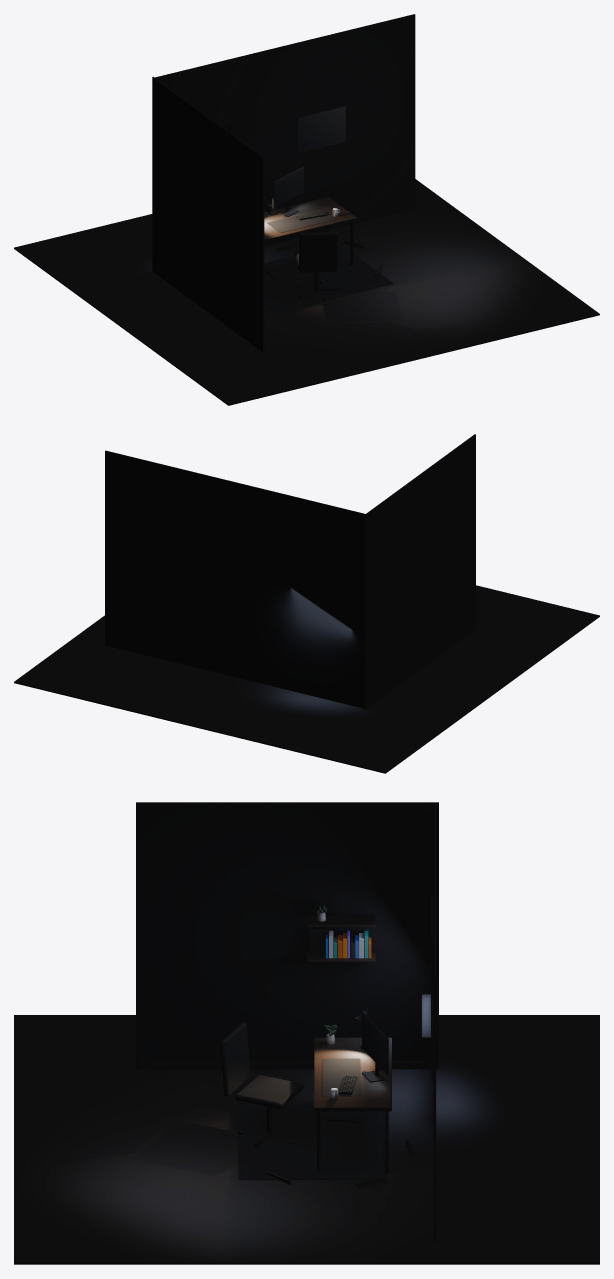
Rendered from room.glb.
The picture shows the model from 3 angles, top to bottom: view 1: azimuth 30°, elevation 25°; view 2: azimuth 150°, elevation 25°; view 3: azimuth 270°, elevation 25°; orthographic projection. The views are drawn at different scales.
Visible parts, largest first — view 1: room, desk, chair; view 2: room; view 3: room, desk, chair, shelf.
Boxes of the visible parts, x1,y1,x2,y2 form: room: [14, 14, 599, 405]; desk: [264, 166, 356, 265]; chair: [265, 232, 383, 300]; room: [14, 434, 599, 773]; room: [14, 802, 599, 1264]; desk: [314, 1008, 391, 1172]; chair: [220, 1022, 414, 1186]; shelf: [307, 904, 375, 962].
Size of the model in its own units: 6 by 3.02 by 6.
4 materials, 4 textured.
